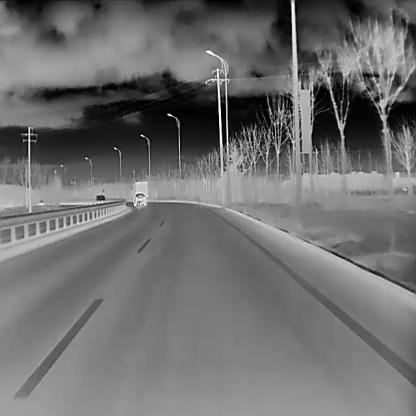car: (132, 192, 147, 206), (93, 194, 105, 206)
truck: (130, 180, 148, 200)
